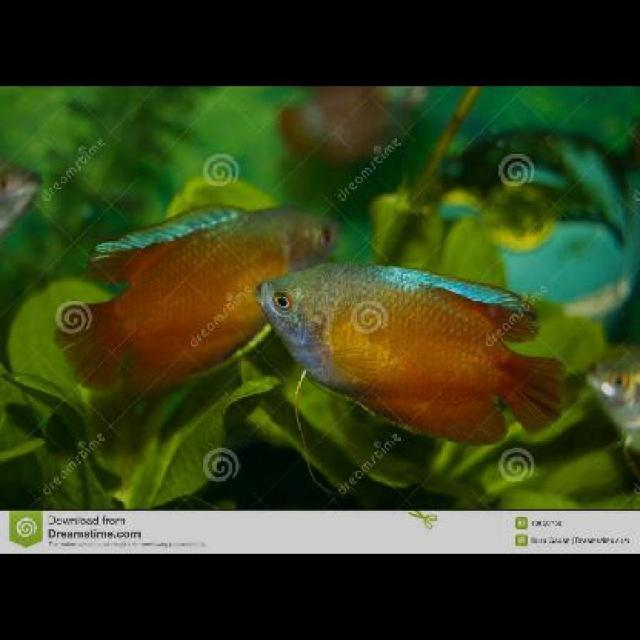Gourami: (62, 198, 344, 394), (258, 251, 554, 435)
